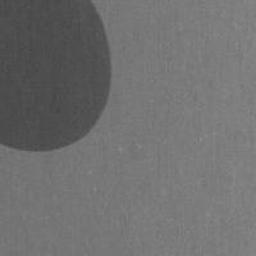Oil spot: (0, 0, 114, 154)
